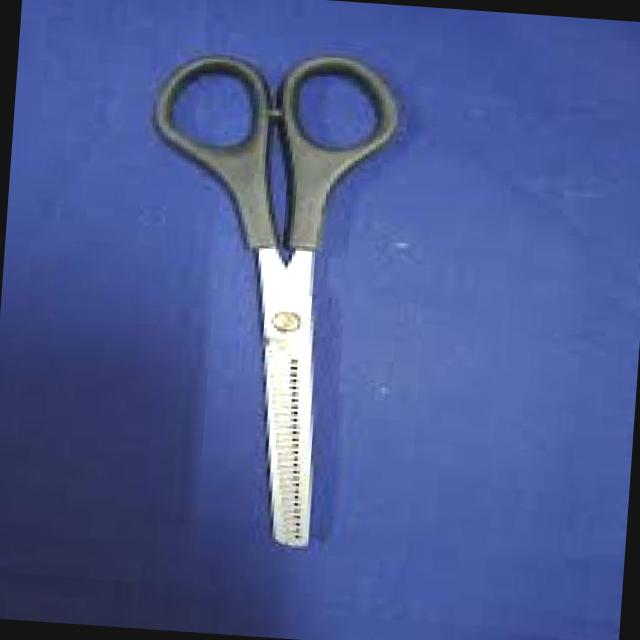Scissors: (115, 39, 420, 568)
